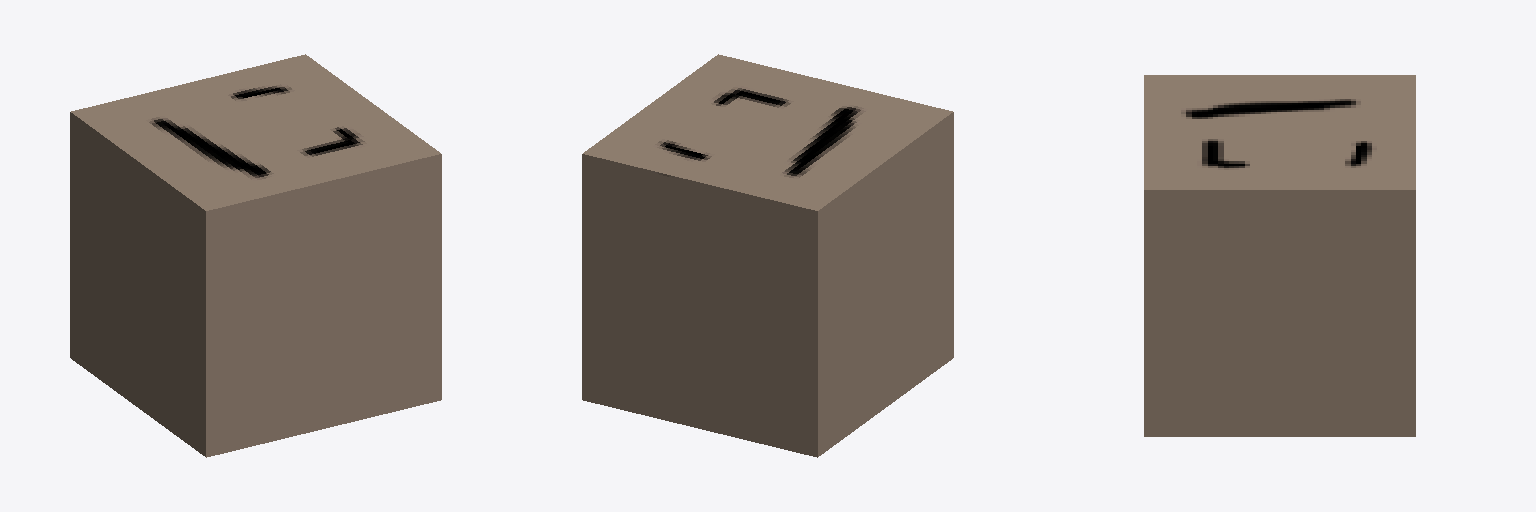
3 renders of one model, left to right at view 1: azimuth 30°, elevation 25°; view 2: azimuth 150°, elevation 25°; view 3: azimuth 270°, elevation 25°, orthographic.
Visible parts, largest first — view 1: Head_Cube.002; view 2: Head_Cube.002; view 3: Head_Cube.002.
Boxes of the visible parts, x1,y1,x2,y2 form: Head_Cube.002: [70, 54, 441, 457]; Head_Cube.002: [582, 54, 953, 457]; Head_Cube.002: [1144, 75, 1415, 436].
Size of the model in its own units: 1 by 1 by 1.
Materials: 1 (1 with a texture image).